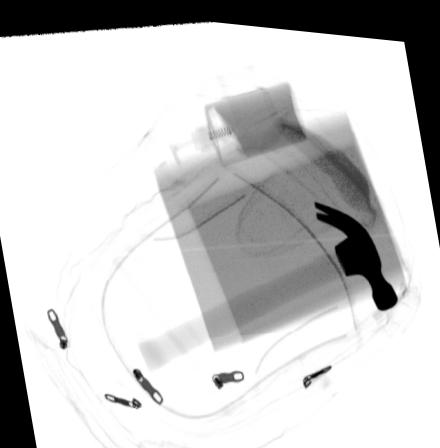Hammer: (133, 191, 398, 369)
